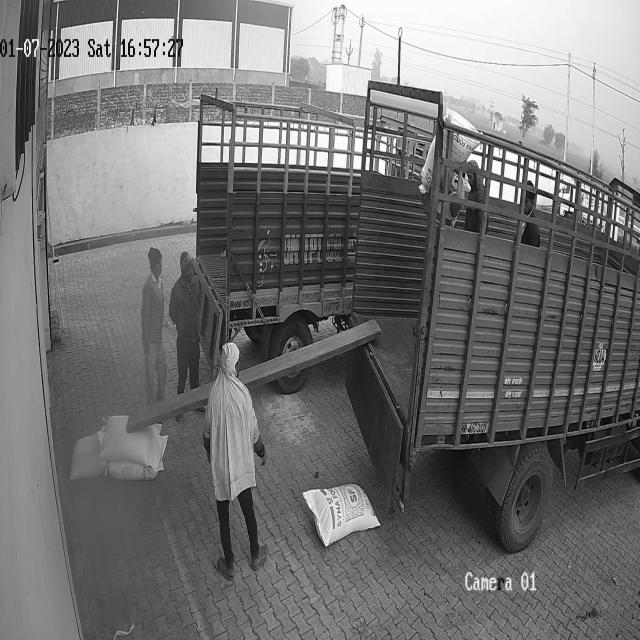sack: (302, 483, 380, 548), (99, 416, 162, 464), (104, 434, 167, 478), (68, 432, 108, 479)
